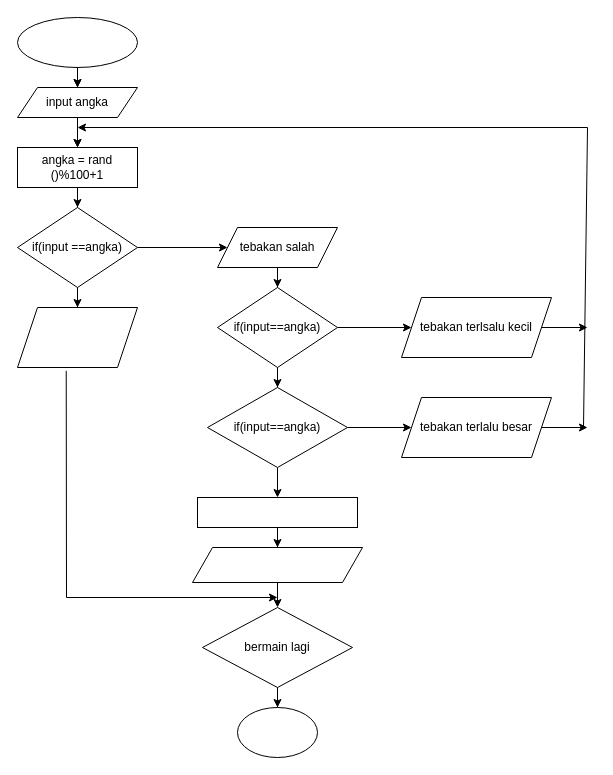
Image size: 613x775. Some labels were removed from this diagram. The shapes that lost their labels are listed below. From the top down, each one's centre as x and y in pixels, then its label:
At pixel 77 42: "start".
At pixel 77 337: "tebakan benar".
At pixel 277 512: "for(i=1;<=4;i++)".
At pixel 277 564: "jawaban benar".
At pixel 277 732: "stop".
